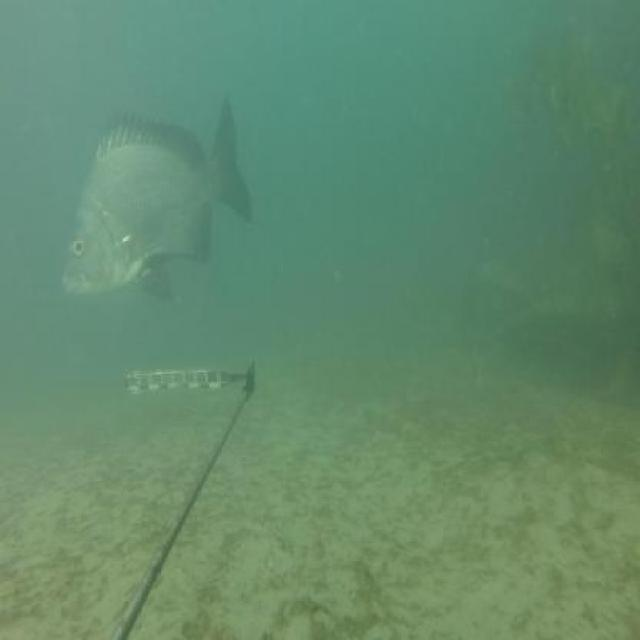acanthopagrus_palmaris: (61, 94, 257, 308)
